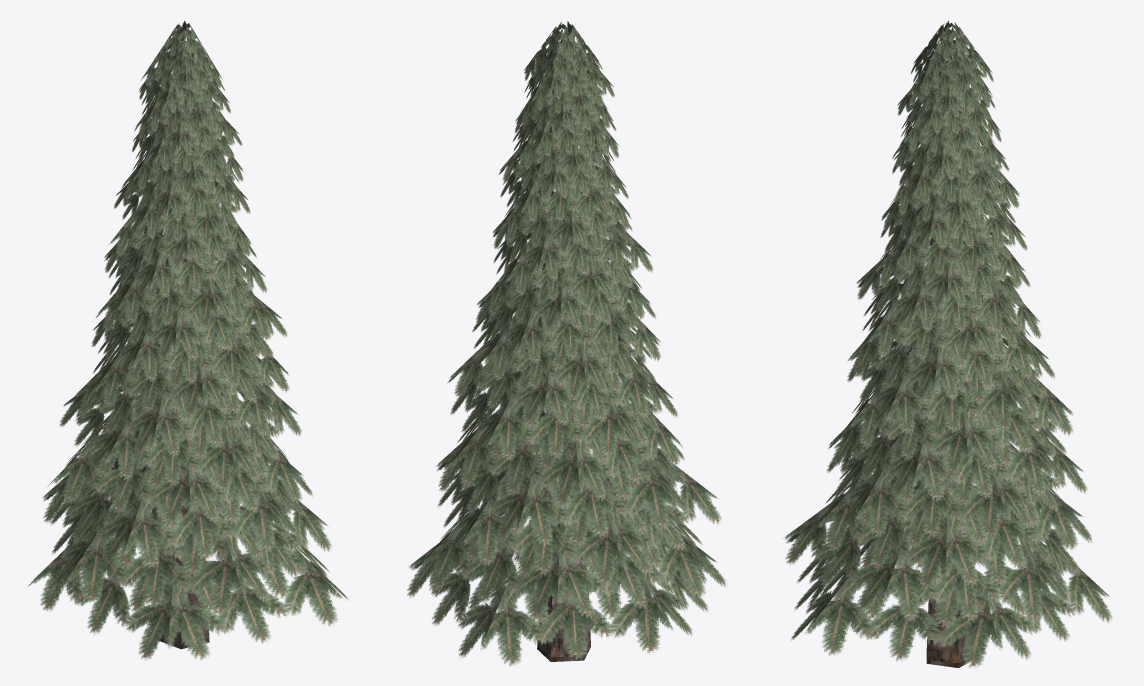
Rendered from Tree.glb.
3 renders of one model, left to right at view 1: azimuth 30°, elevation 25°; view 2: azimuth 150°, elevation 25°; view 3: azimuth 270°, elevation 25°, orthographic. The views are drawn at different scales.
Parts seen in each view (by area): view 1: Tree; view 2: Tree; view 3: Tree.
Boxes of the visible parts, <box> form: Tree: <box>27,21,349,660</box>; Tree: <box>407,21,726,666</box>; Tree: <box>783,21,1112,668</box>.
Size of the model in its own units: 5.96 by 12.32 by 6.34.
2 materials, 2 textured.
